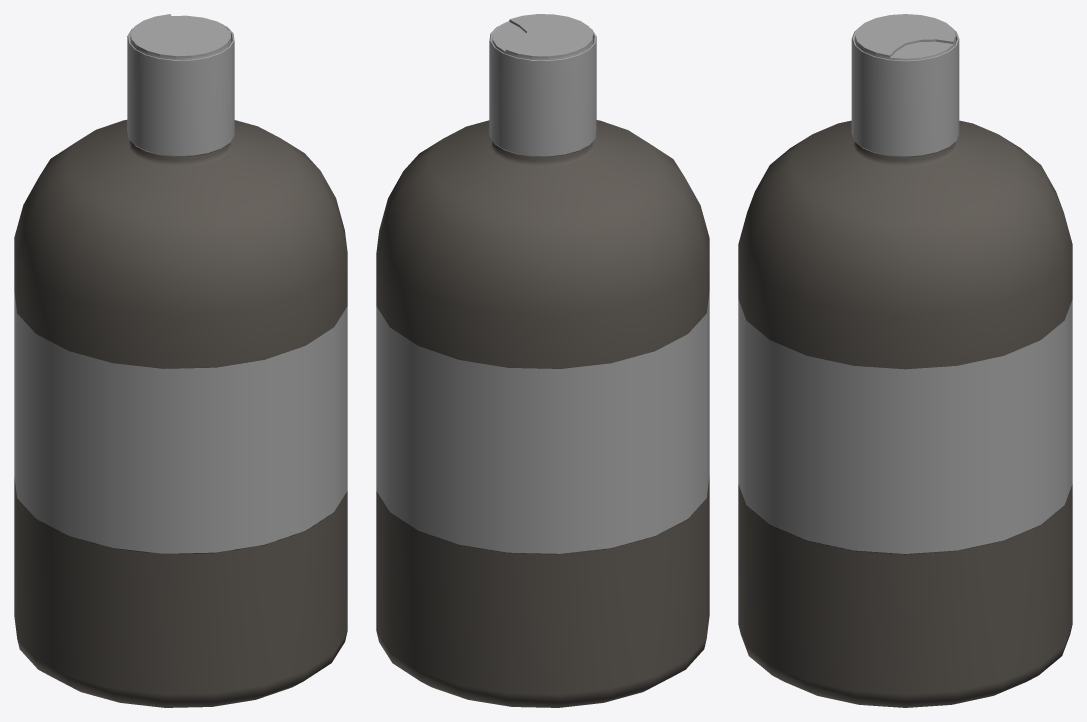
Rendered from SM_lube.fbx.
3 renders of one model, left to right at view 1: azimuth 30°, elevation 25°; view 2: azimuth 150°, elevation 25°; view 3: azimuth 270°, elevation 25°, orthographic.
Visible parts, largest first — view 1: SM_lube2; view 2: SM_lube2; view 3: SM_lube2.
Boxes of the visible parts, x1,y1,x2,y2 form: SM_lube2: (14,14,347,707); SM_lube2: (376,14,709,707); SM_lube2: (738,14,1072,707).
Size of the model in its own units: 10 by 20.09 by 10.
